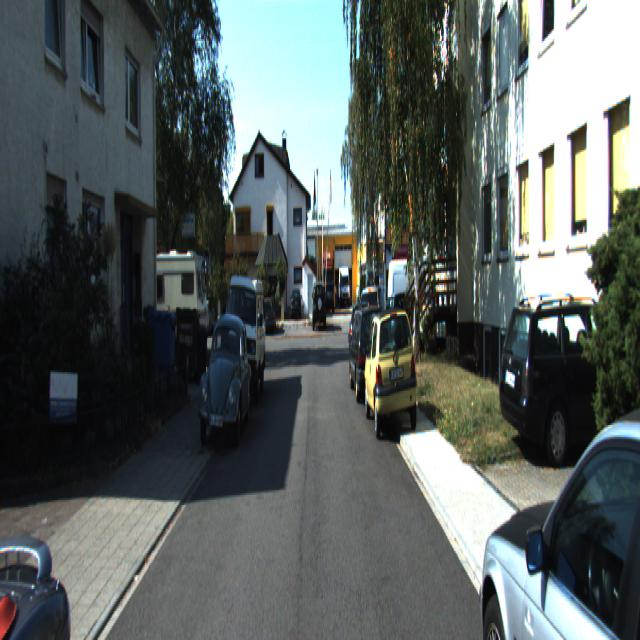Car: (466, 334, 640, 638), (495, 291, 640, 467), (0, 452, 101, 639), (118, 254, 215, 372), (192, 311, 254, 444), (364, 308, 418, 440), (220, 271, 267, 407), (347, 302, 392, 403), (387, 256, 446, 331), (312, 282, 326, 331)
